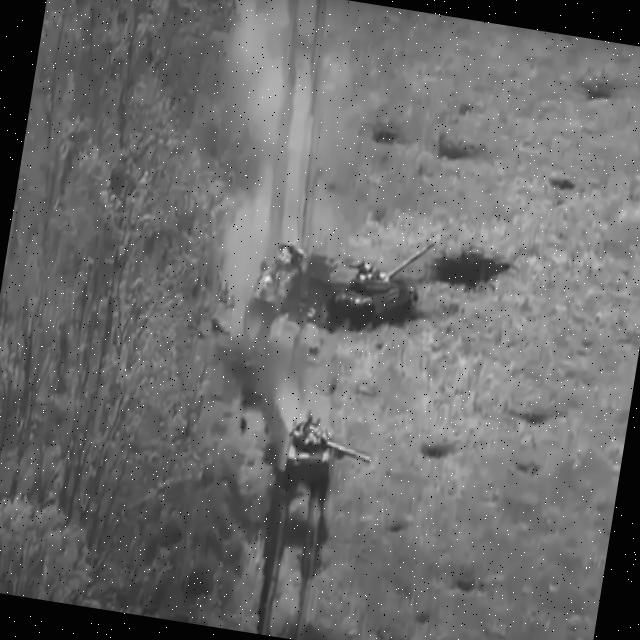APC: (247, 246, 309, 327)
MBT: (324, 228, 436, 341), (280, 409, 379, 497)
